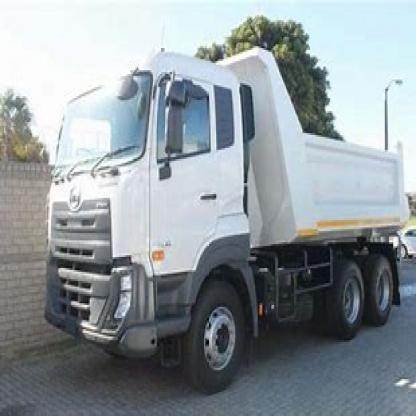dump_truck: (32, 31, 414, 392)
